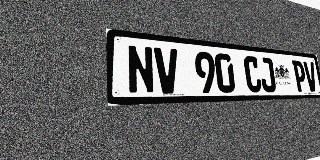0: (214, 53, 236, 93)
9: (194, 51, 217, 93)
C: (243, 55, 262, 92)
J: (258, 57, 277, 92)
N: (126, 44, 155, 94)
P: (292, 60, 308, 92)
V: (154, 47, 180, 94), (303, 61, 318, 92)
